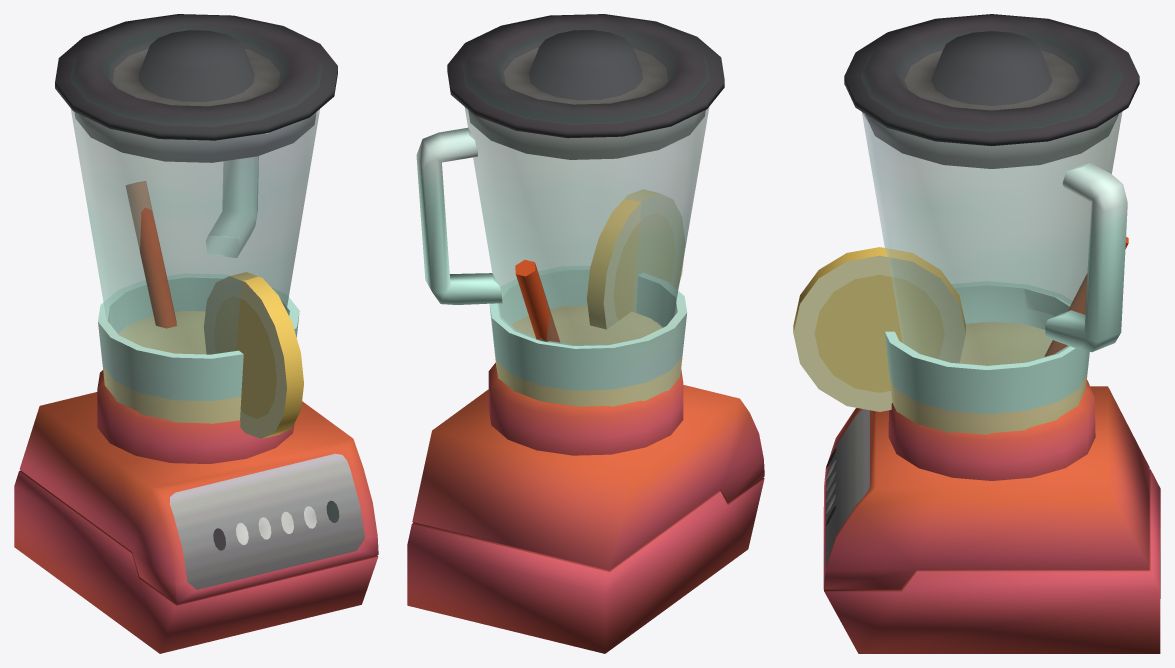
Rendered from K1_Rig.fbx.
The picture shows the model from 3 angles, left to right: view 1: azimuth 30°, elevation 25°; view 2: azimuth 150°, elevation 25°; view 3: azimuth 270°, elevation 25°; orthographic projection. The views are drawn at different scales.
Parts seen in each view (by area): view 1: K2, K1_Lip, F1, K1_1; view 2: K2, K1_Lip, F1, K1_1; view 3: K2, F1, K1_Lip, K1_1.
Boxes of the visible parts, x1,y1,x2,y2 form: K2: (14,108,378,653); K1_Lip: (55,14,337,162); F1: (98,181,303,438); K1_1: (118,311,206,354); K2: (407,106,764,653); K1_Lip: (447,14,724,159); F1: (489,189,687,406); K1_1: (512,305,661,344); K2: (823,84,1160,653); F1: (793,236,1128,434); K1_Lip: (844,14,1139,168); K1_1: (959,321,1052,365).
Bounding box in the file's own units: 25.68 × 53.12 × 31.91.
